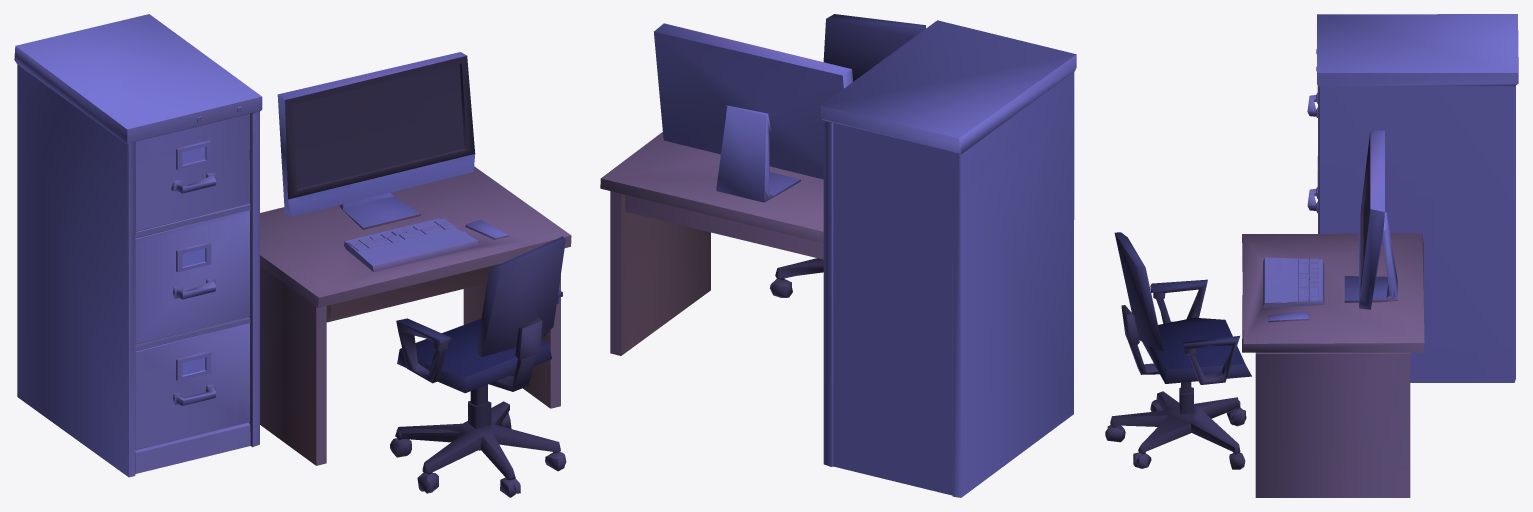
The model's file is model.progressive.glb.
3 renders of one model, left to right at view 1: azimuth 30°, elevation 25°; view 2: azimuth 150°, elevation 25°; view 3: azimuth 270°, elevation 25°, orthographic. The views are drawn at different scales.
Parts seen in each view (by area): view 1: FillingCabinetDeskComputer4; view 2: FillingCabinetDeskComputer4; view 3: FillingCabinetDeskComputer4.
Boxes of the visible parts, <box> form: FillingCabinetDeskComputer4: <box>14,14,571,497</box>; FillingCabinetDeskComputer4: <box>600,14,1076,497</box>; FillingCabinetDeskComputer4: <box>1105,14,1518,497</box>.
Size of the model in its own units: 1.89 by 1.58 by 1.89.
1 material, 1 textured.
